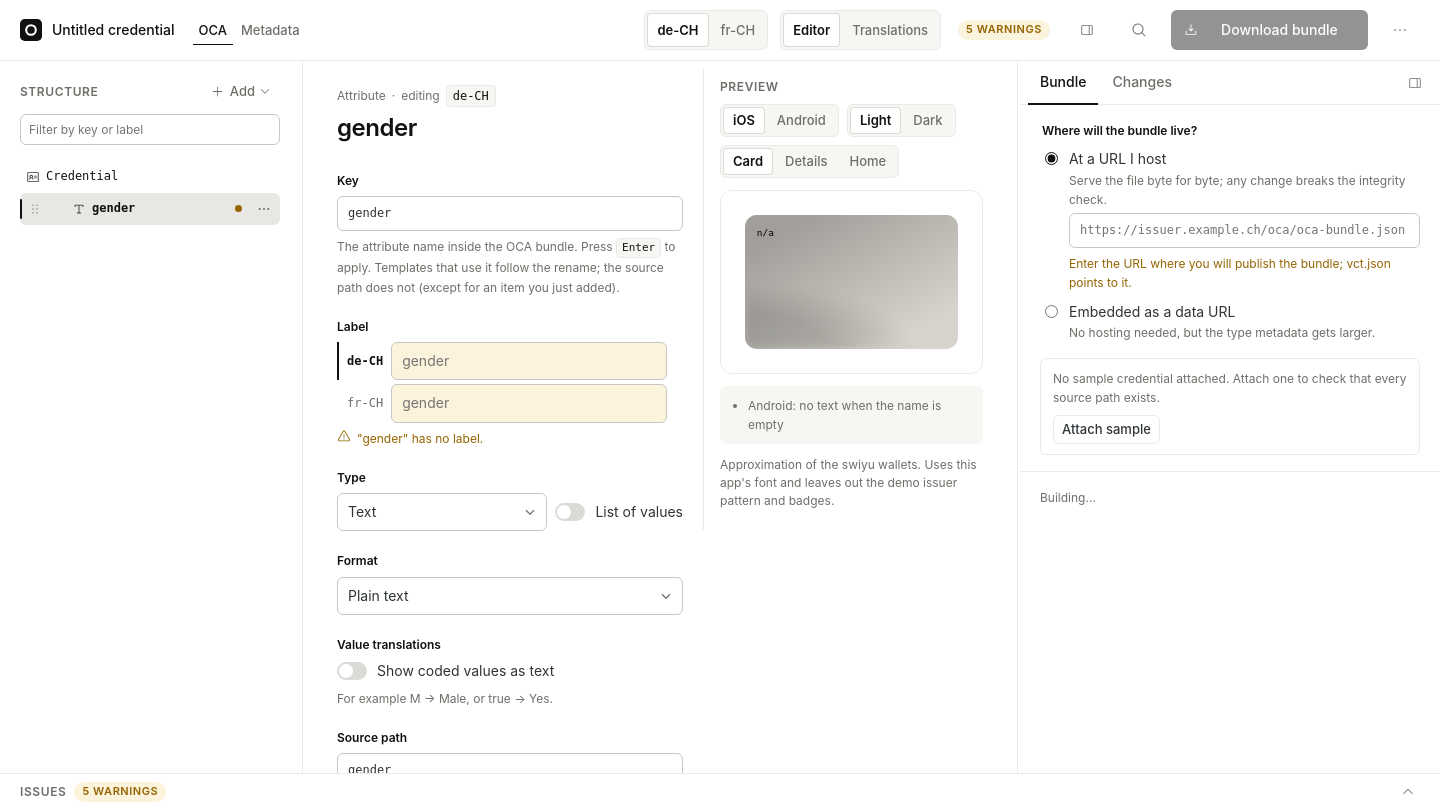
I14Y suggestions › takes a suggestion from the key field with the keyboard
This screenshot has width=1452, height=810.
Replace the text in the dropdown labelled "Key" with "sex" at (510, 214), box [337,196,683,231]
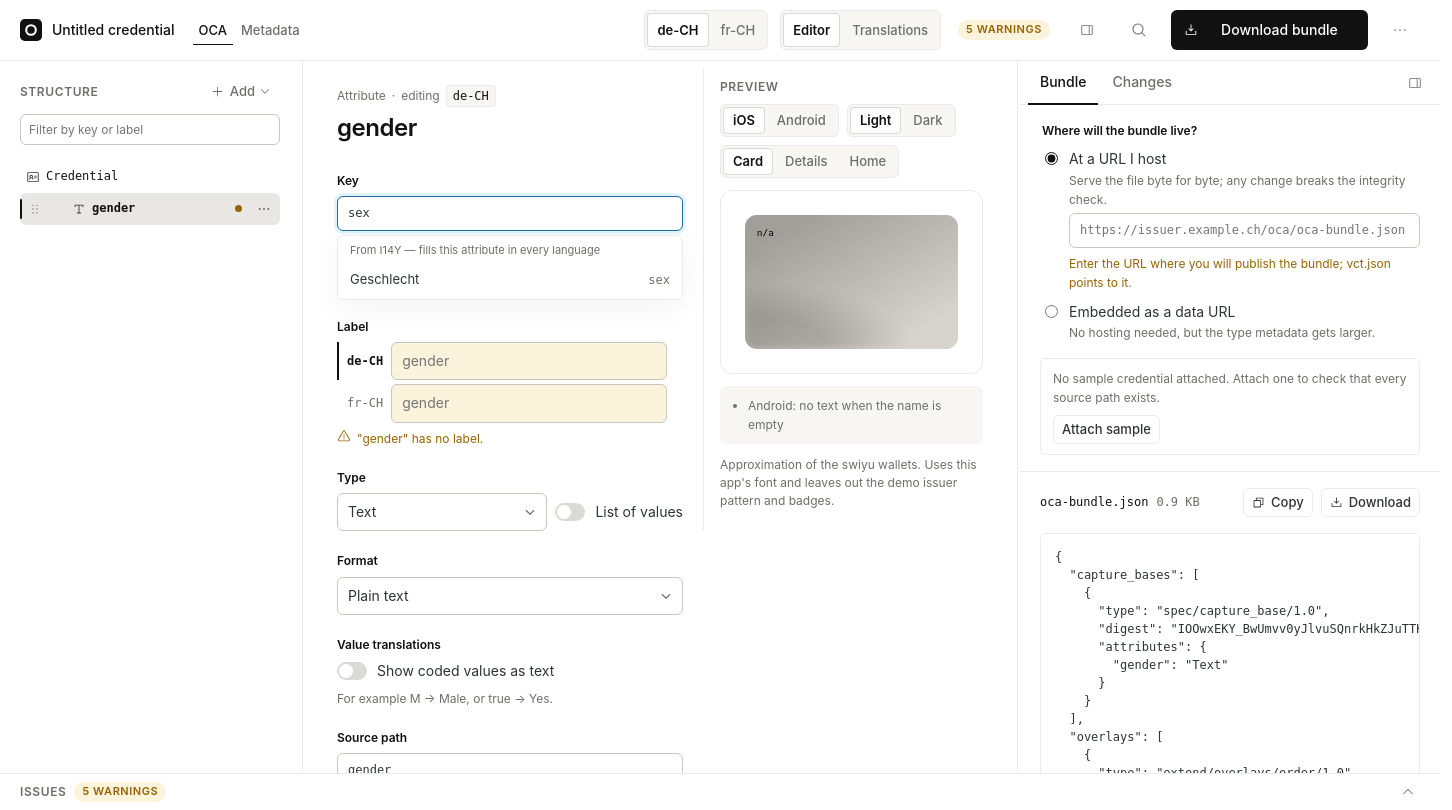
Result: the option "Geschlecht sex" is shown at [350,271,670,287]
Press Arrowdown Enter
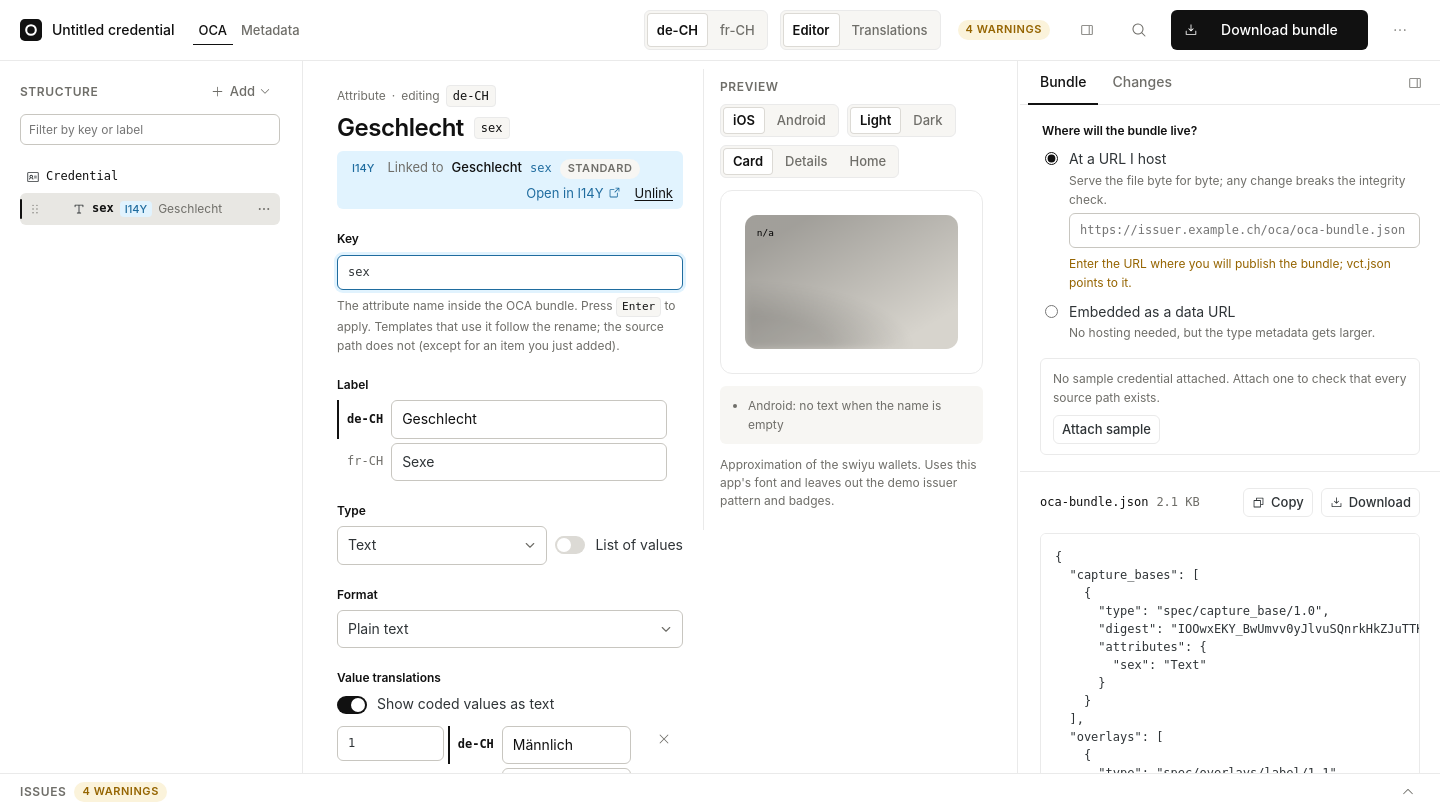
Result: the text "Geschlecht" below "Structure" is shown at [158,201,222,216]
